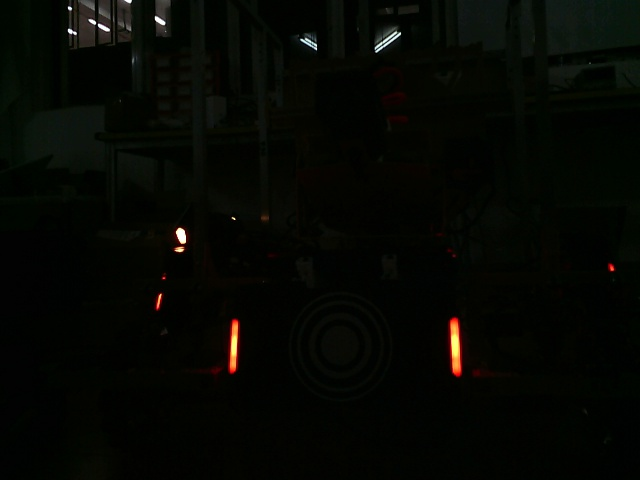lamp: (443, 314, 465, 380), (224, 315, 241, 375)
